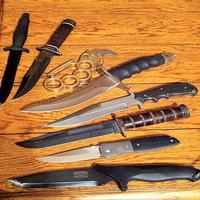knife: (15, 52, 198, 164), (10, 1, 79, 104), (5, 161, 199, 193), (21, 132, 180, 167), (1, 10, 28, 108)
